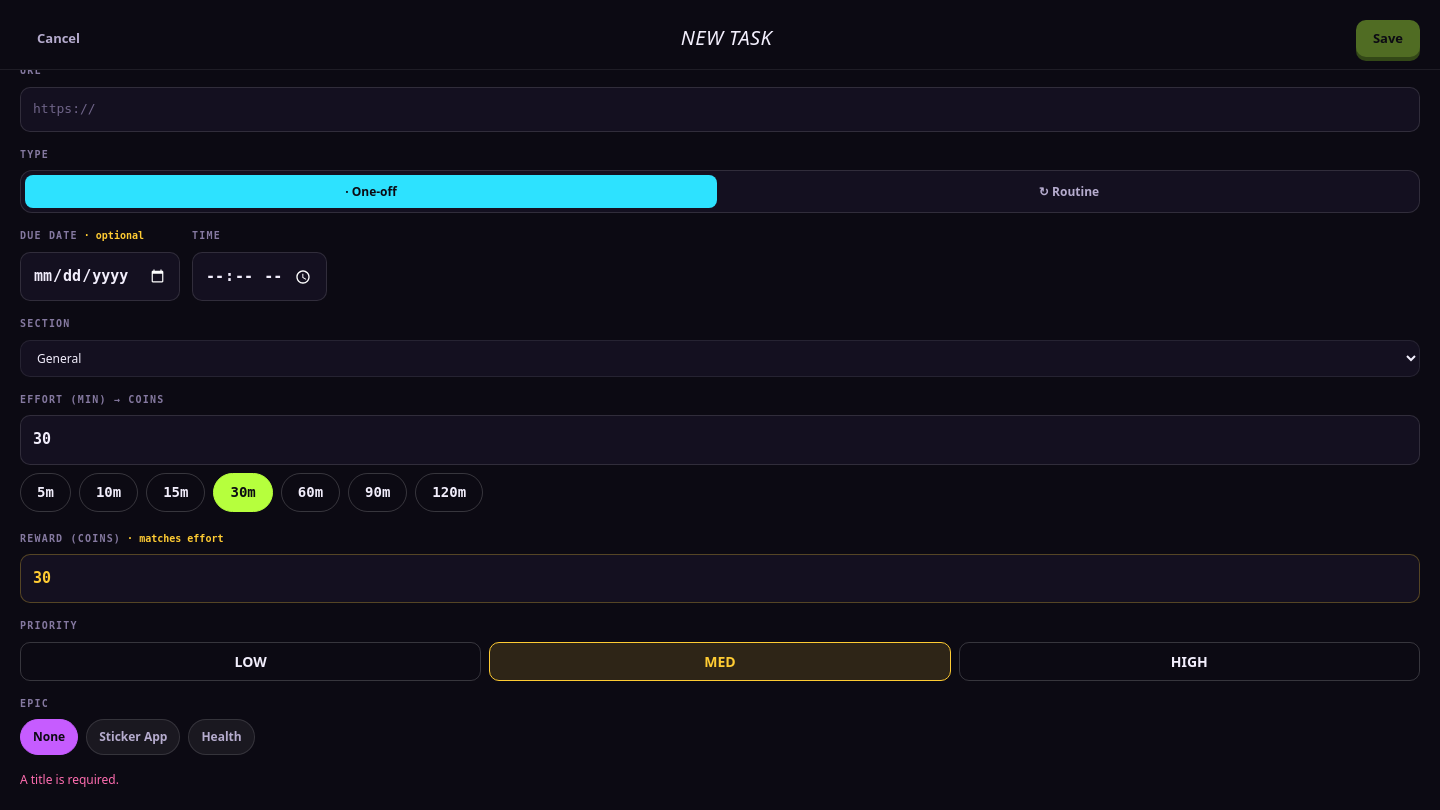
effort and reward › mirrors typed effort into reward
(page scrolled)
# Cleared first: the field arrives at the default now, and typing appends.
In the field labelled "Effort (min) → coins": [720, 440] box x1=20 y1=415 x2=1420 y2=465, type "45"
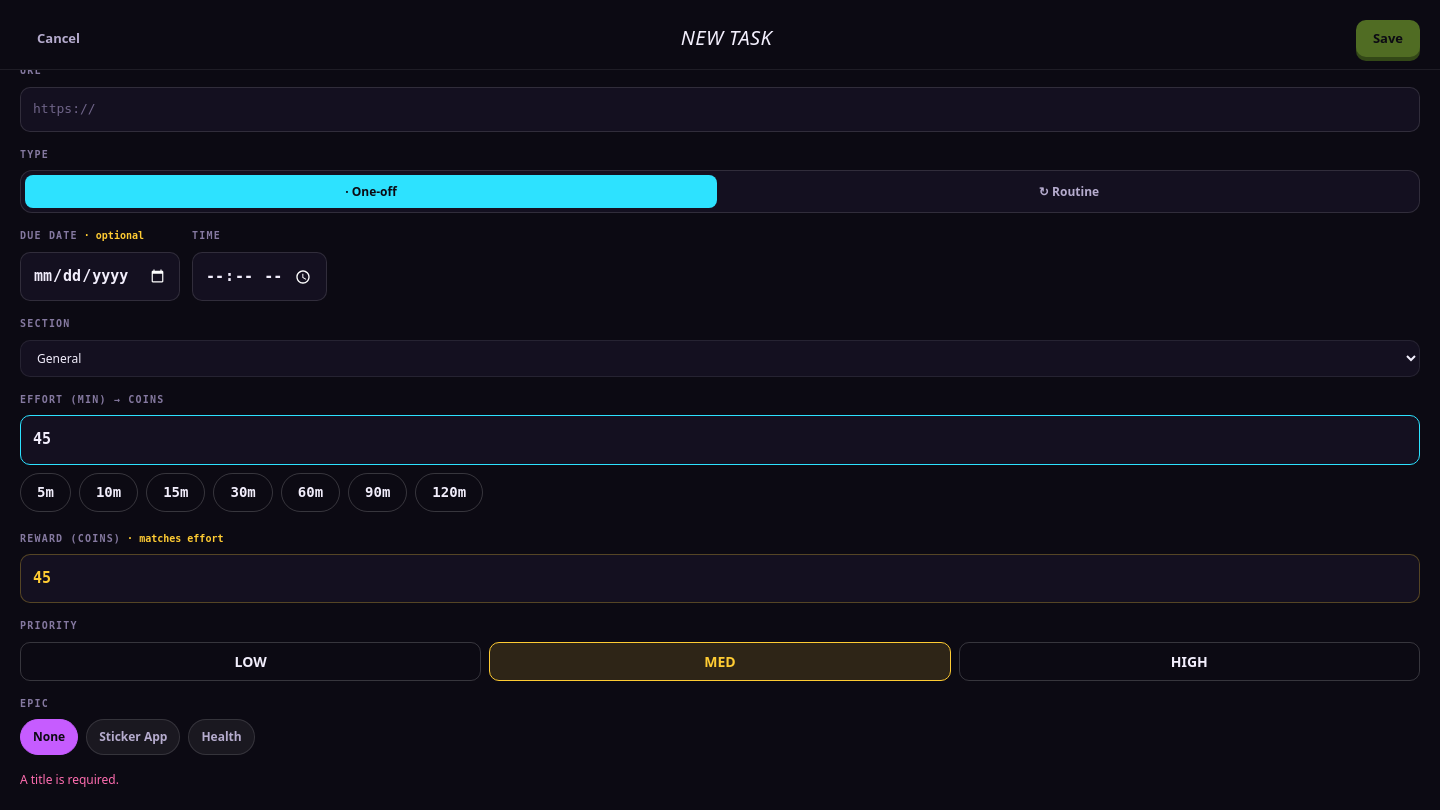
Now the field labelled "Reward (coins) · matches effort" holds "45", box x1=20 y1=554 x2=1420 y2=603
